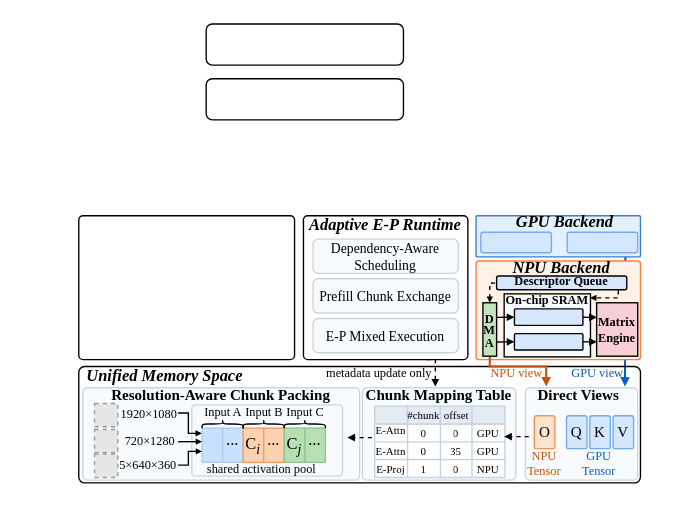
This 677x507 diagram has some shape labels left out. Grey dashed boxes stand in for pictures. The shapes that lost their labels are listed below. From the top down, each one's box as (x1, y1, x2, y2) in pixels, then its label:
(480, 231, 551, 253): Encode Attn
(566, 231, 638, 253): Prefill Attn
(77, 214, 295, 360): Stage-Aware Execution Graph
(513, 308, 583, 325): Activation
(513, 332, 583, 350): Weight
(373, 405, 408, 424): type
(471, 405, 505, 424): view
(201, 427, 223, 462): C 0
